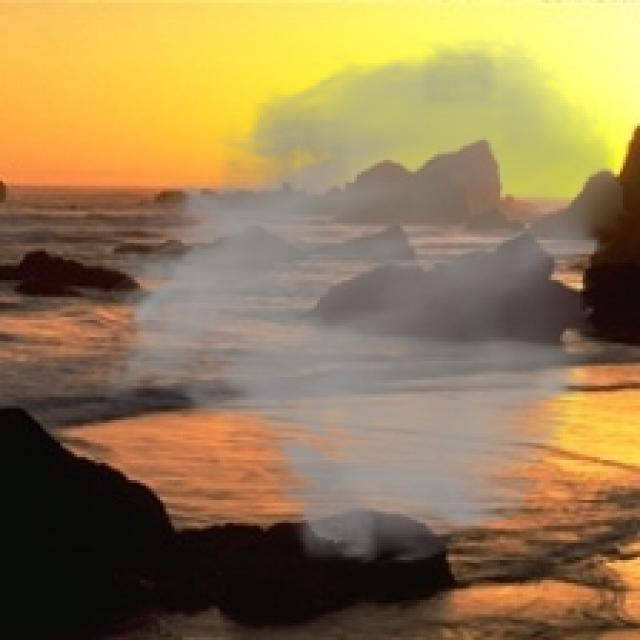Smoke: (94, 34, 629, 569)
